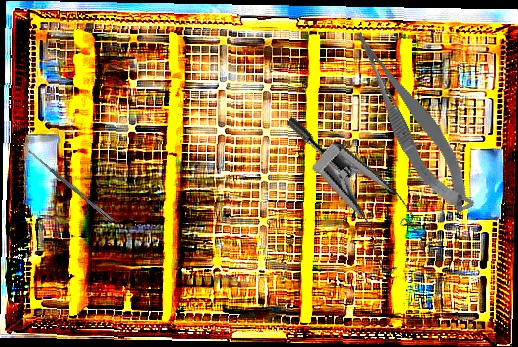Micro Scissor: (345, 17, 481, 224)
Speculum: (246, 115, 452, 285)
Surgical Spoon: (22, 144, 115, 223)
